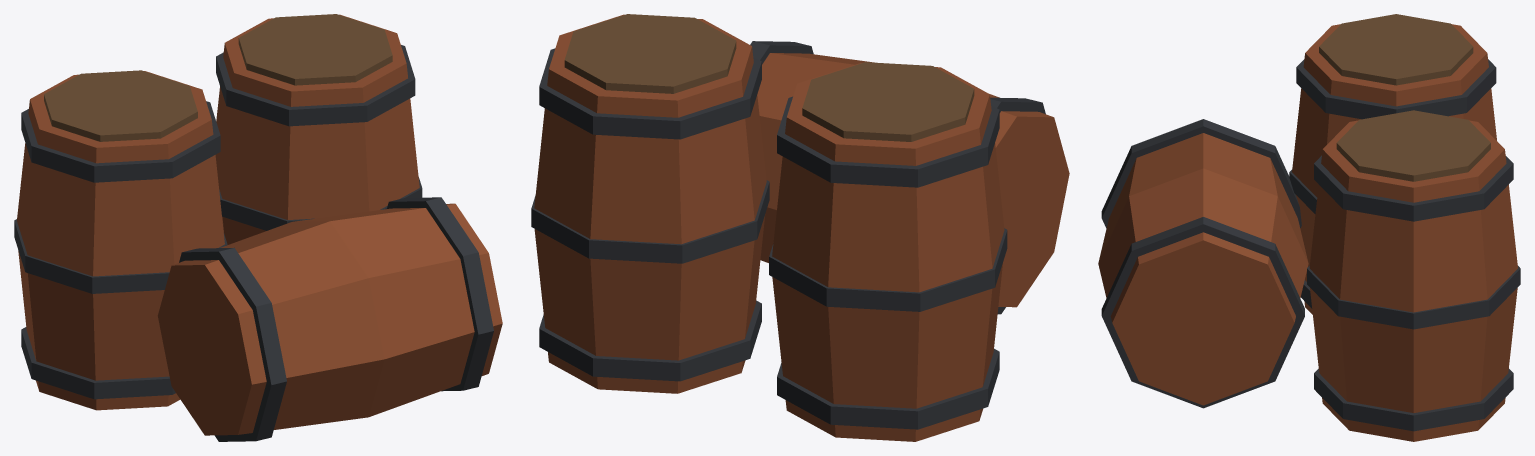
Rendered from Barrels.glb.
The picture shows the model from 3 angles, left to right: view 1: azimuth 30°, elevation 25°; view 2: azimuth 150°, elevation 25°; view 3: azimuth 270°, elevation 25°; orthographic projection. The views are drawn at different scales.
Parts seen in each view (by area): view 1: Barrels; view 2: Barrels; view 3: Barrels.
Part boxes in pixels (x1,y1,x2,y2): Barrels: (14,14,502,441); Barrels: (531,14,1069,441); Barrels: (1098,14,1520,441).
Bounding box in the file's own units: 1.26 × 0.82 × 1.21.
Materials: 1 (1 with a texture image).
